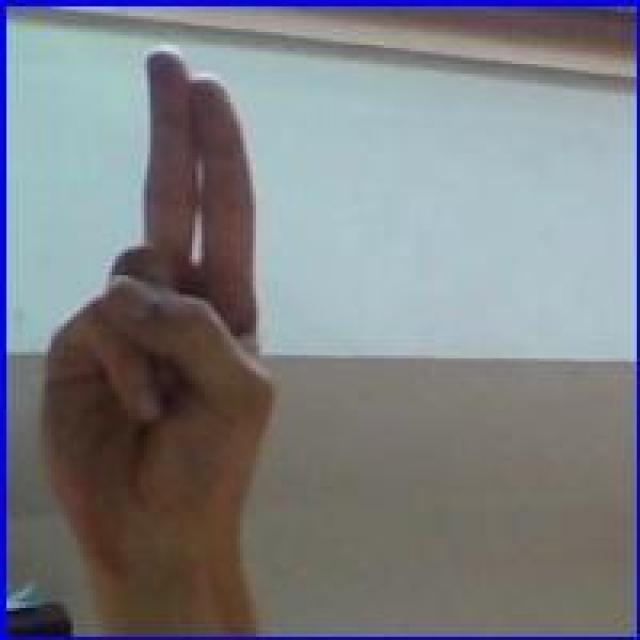U: (34, 38, 283, 576)
